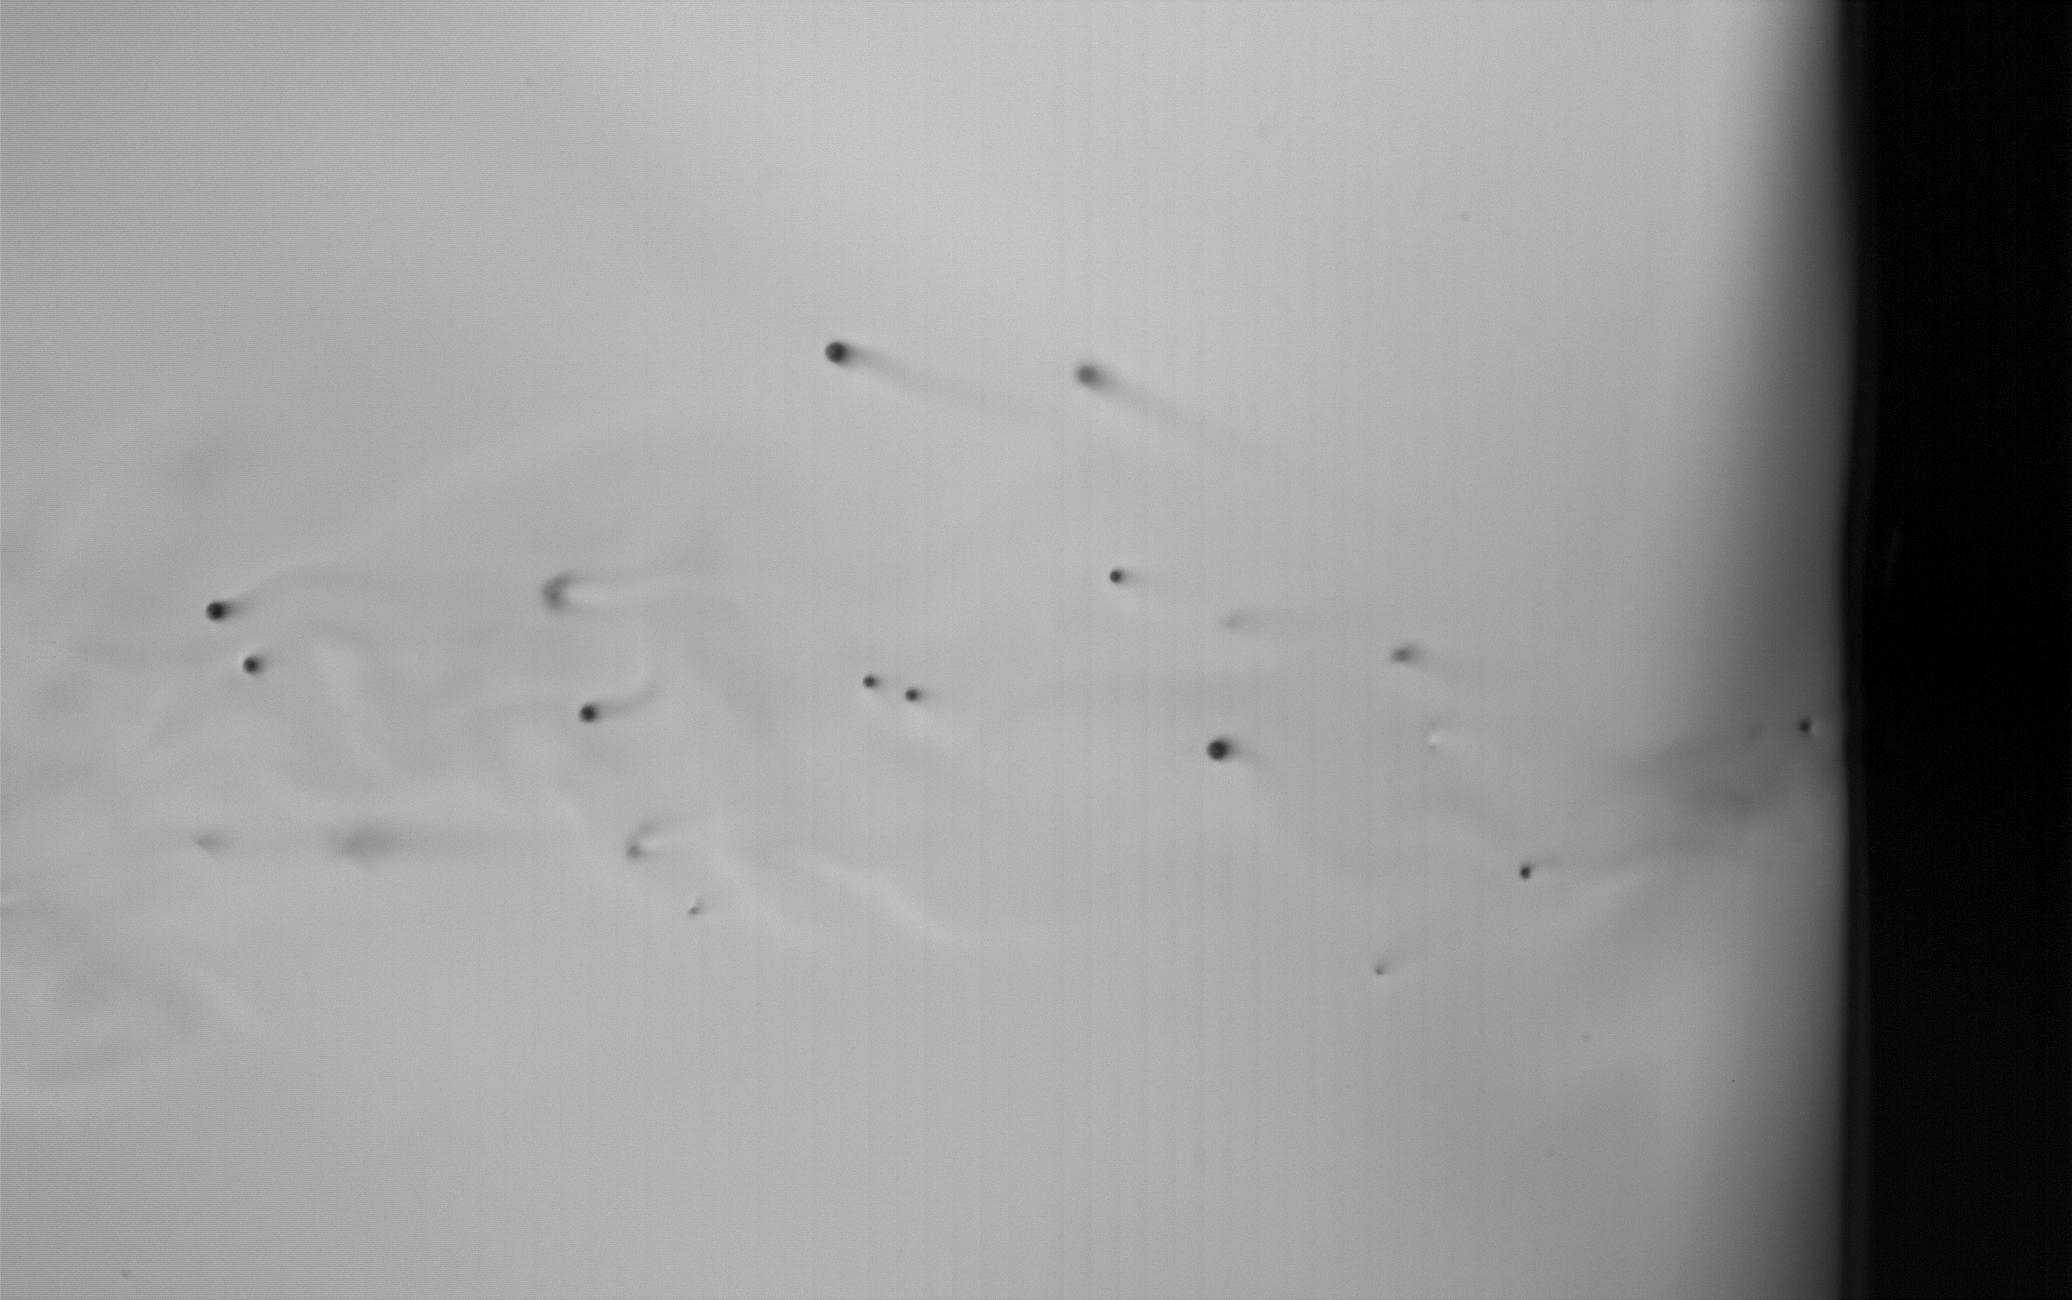Blurry: (618, 810, 674, 866), (1383, 637, 1422, 675), (1073, 359, 1111, 397), (1794, 713, 1823, 746)
ClassicalEvaporation: (569, 690, 611, 738), (1195, 729, 1237, 770), (199, 590, 241, 628), (817, 331, 853, 373), (1097, 559, 1133, 599), (234, 646, 266, 684), (898, 680, 930, 711), (852, 669, 886, 696)
DiffusiveMixing: (536, 566, 588, 616)
